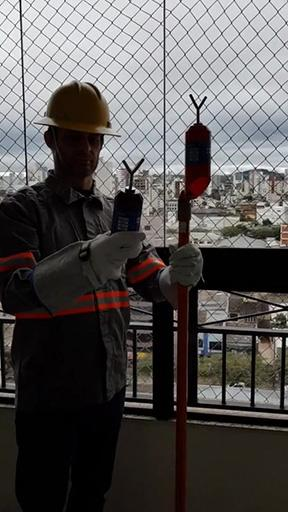Detector_Tensao_Contato: (112, 158, 145, 247), (184, 92, 211, 200)
Vara_Manobra: (175, 198, 192, 512)
